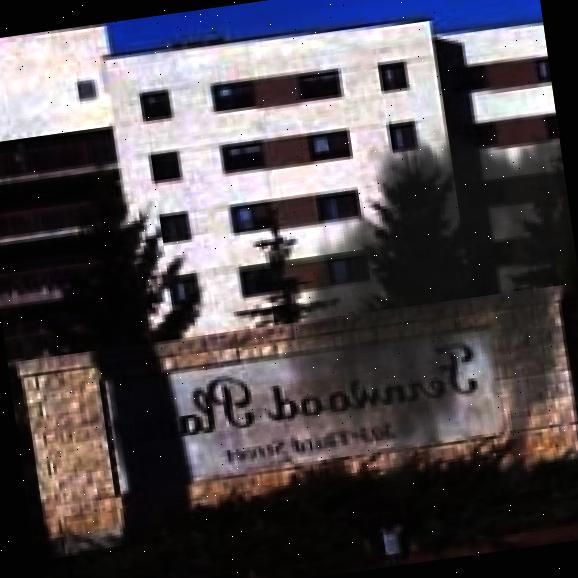smoke: (241, 98, 578, 514)
